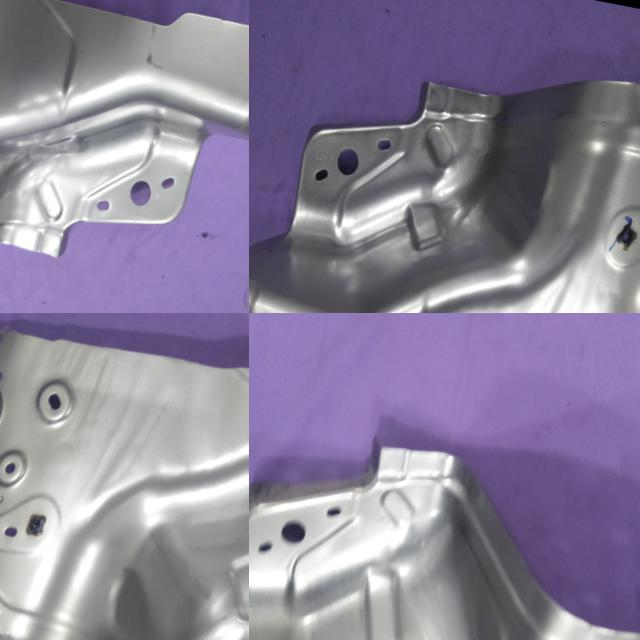Healthy: (249, 3, 640, 313), (249, 398, 640, 640), (0, 313, 249, 640), (0, 0, 249, 313)
